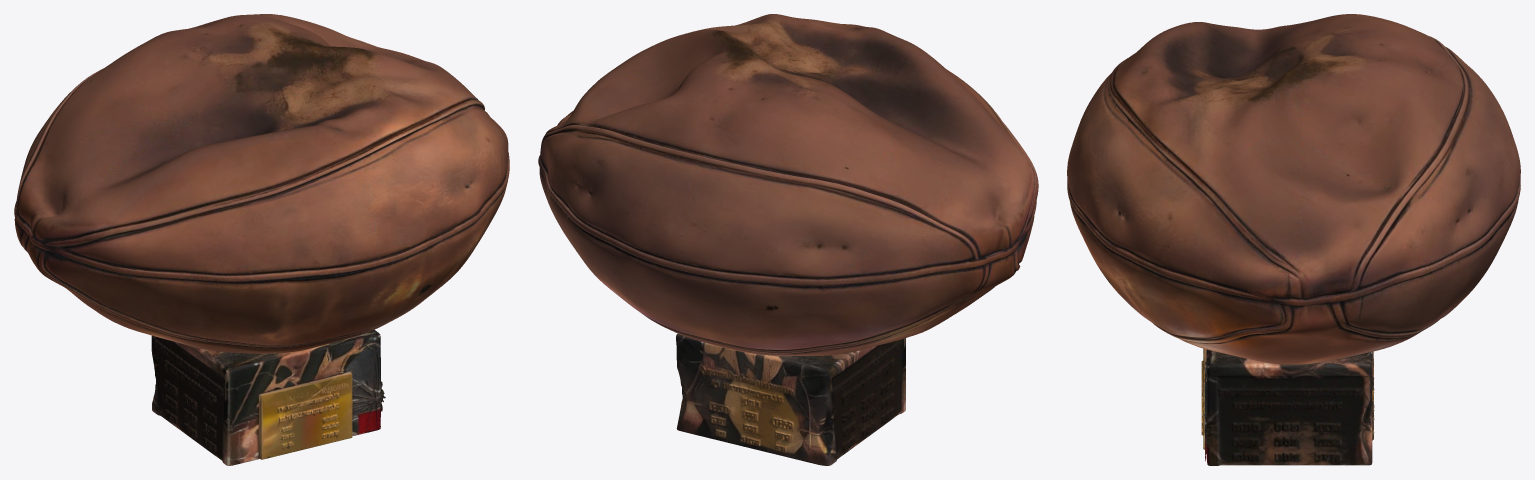
File: bundesliga.glb
3 renders of one model, left to right at view 1: azimuth 30°, elevation 25°; view 2: azimuth 150°, elevation 25°; view 3: azimuth 270°, elevation 25°, orthographic. The views are drawn at different scales.
Parts seen in each view (by area): view 1: mesh_node; view 2: mesh_node; view 3: mesh_node.
Boxes of the visible parts, left/top/right/bottom form: mesh_node: left=14, top=14, right=509, bottom=465; mesh_node: left=538, top=14, right=1038, bottom=465; mesh_node: left=1067, top=14, right=1520, bottom=465.
Bounding box in the file's own units: 1.9 × 1.45 × 1.57.
Materials: 1 (1 with a texture image).
